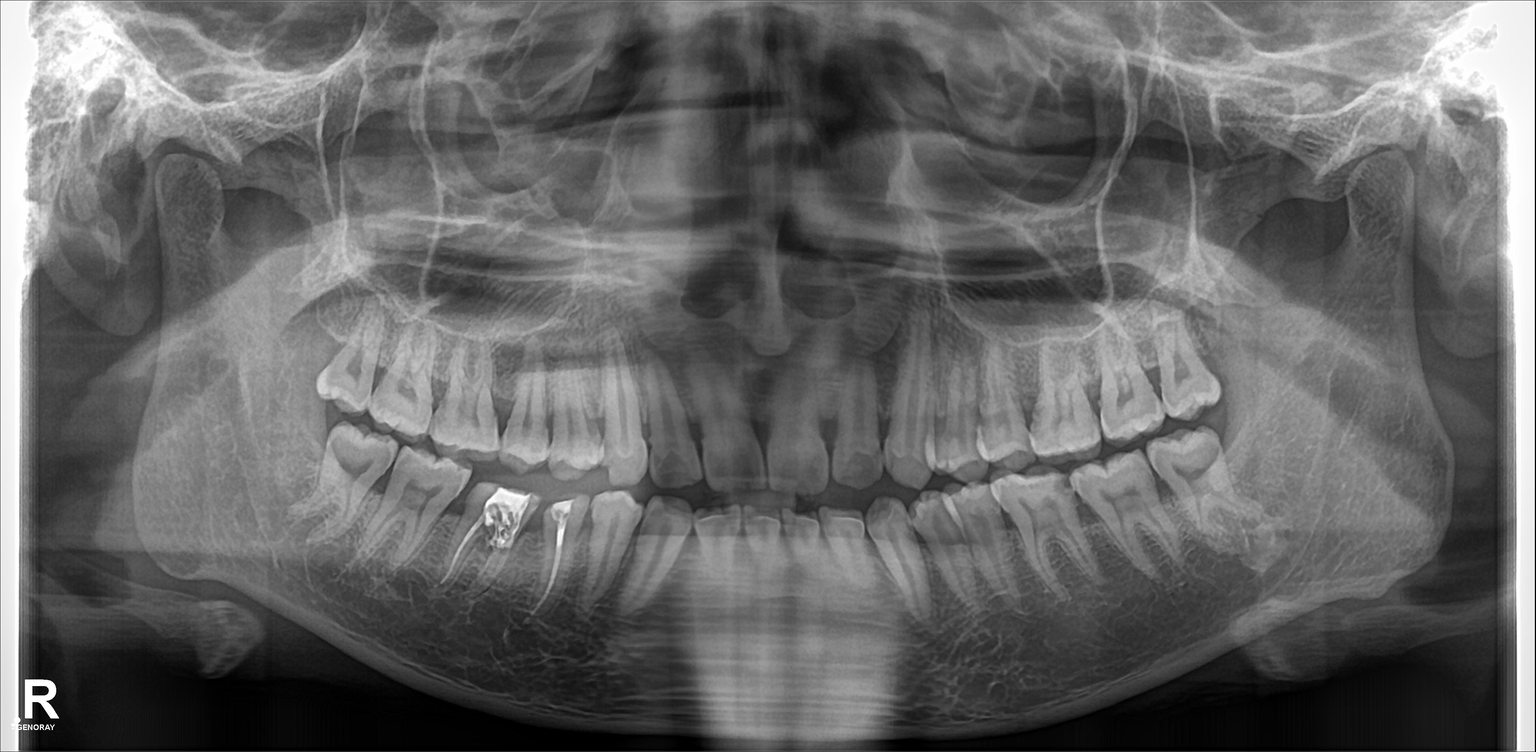Endodontically Treated Tooth: (533, 493, 583, 618), (469, 488, 520, 597)
